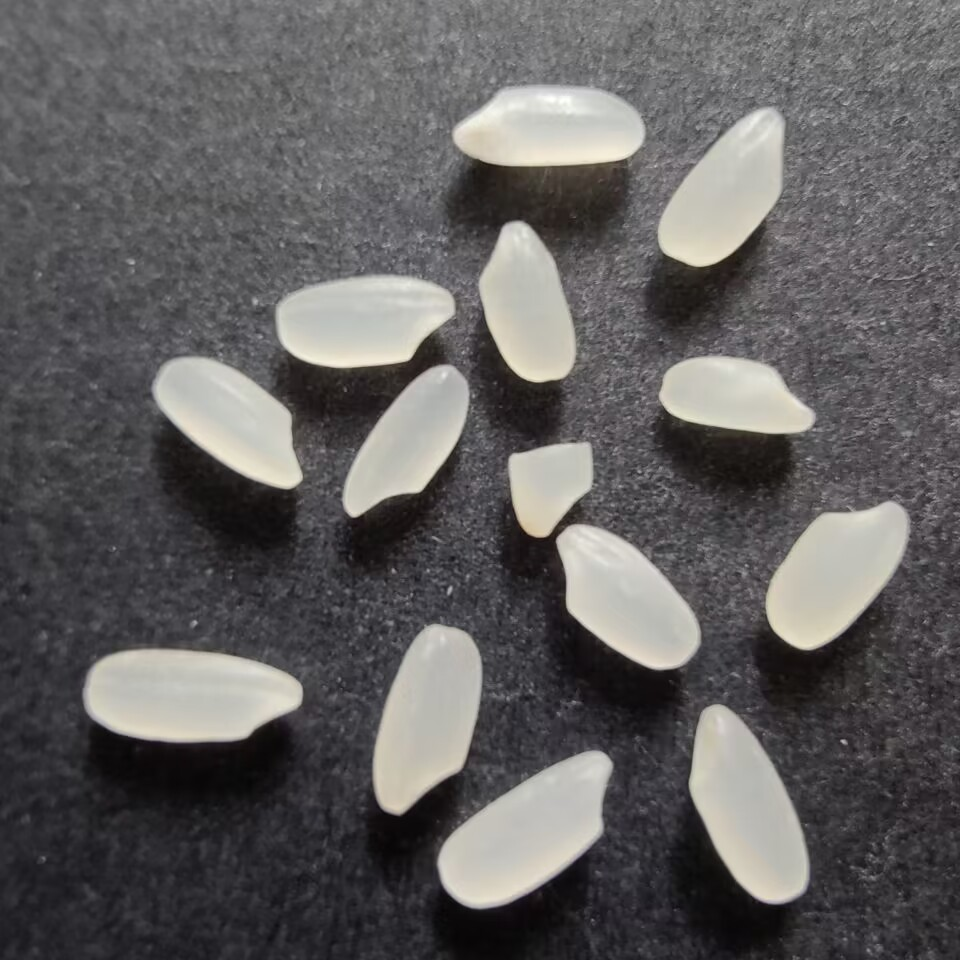broken: (501, 440, 599, 538)
rice: (436, 746, 613, 916), (687, 702, 813, 906), (370, 620, 486, 823), (553, 523, 707, 674), (74, 648, 307, 746), (656, 102, 789, 269), (766, 497, 912, 649), (147, 354, 307, 492), (341, 362, 473, 520), (272, 271, 462, 368), (446, 81, 649, 168), (477, 218, 581, 385), (660, 355, 819, 440)
